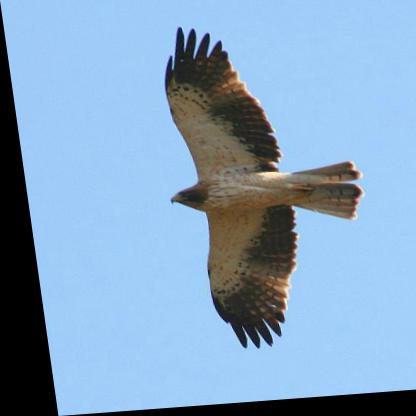Burung: (131, 22, 375, 353)
